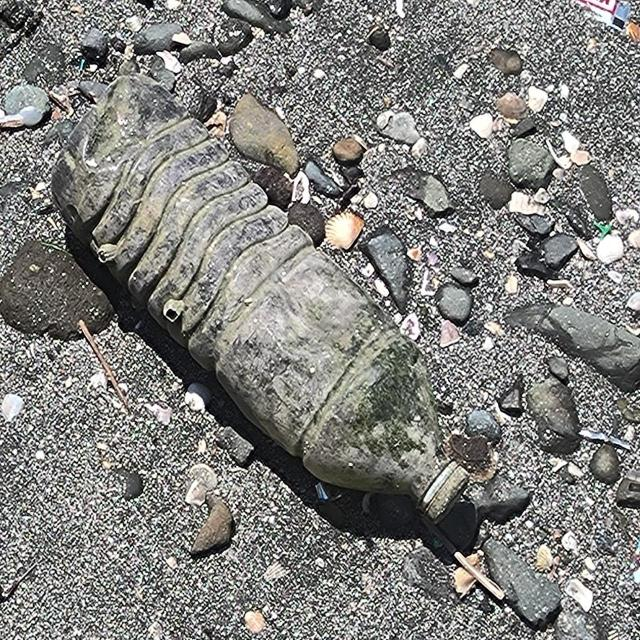plastic_waste: (50, 74, 473, 527)
